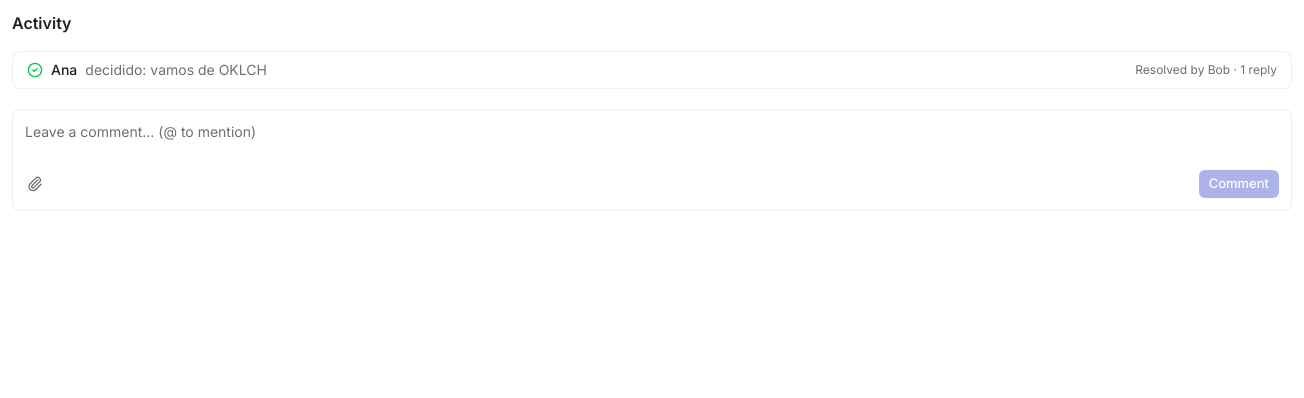
Test: threads no feed de atividade › thread resolvida fica compacta (check + "Resolved by"), esconde respostas e expande ao clicar
The image size is (1304, 398).
Check: the text "concordo" is not shown
Click the button "Ana decidido: vamos de OKLCH Resolved by Bob · 1 reply".
click(176, 70)  # box left=12, top=51, right=1292, bottom=89
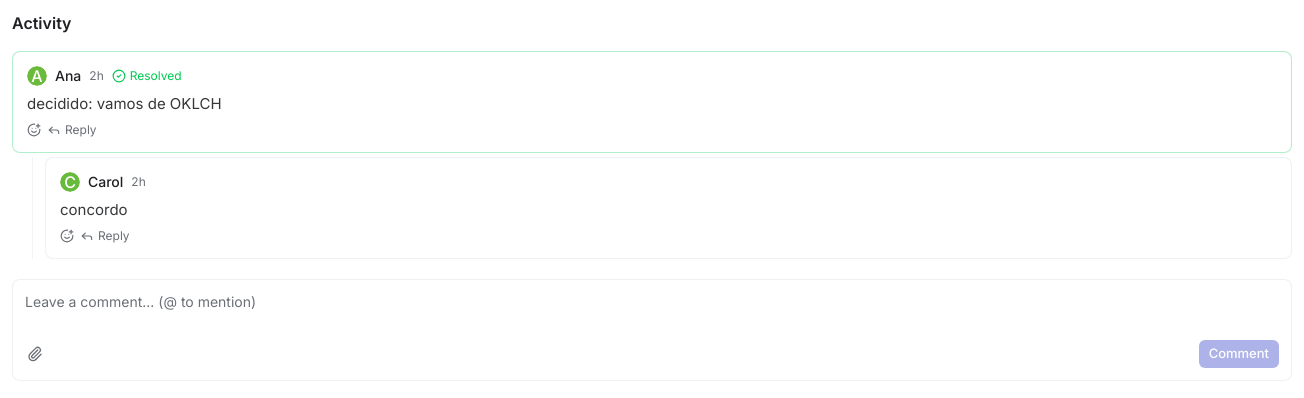
Check: the text "Resolved" is shown, box left=112, top=68, right=182, bottom=84
Check: the text "concordo" is shown, box left=60, top=200, right=128, bottom=219
